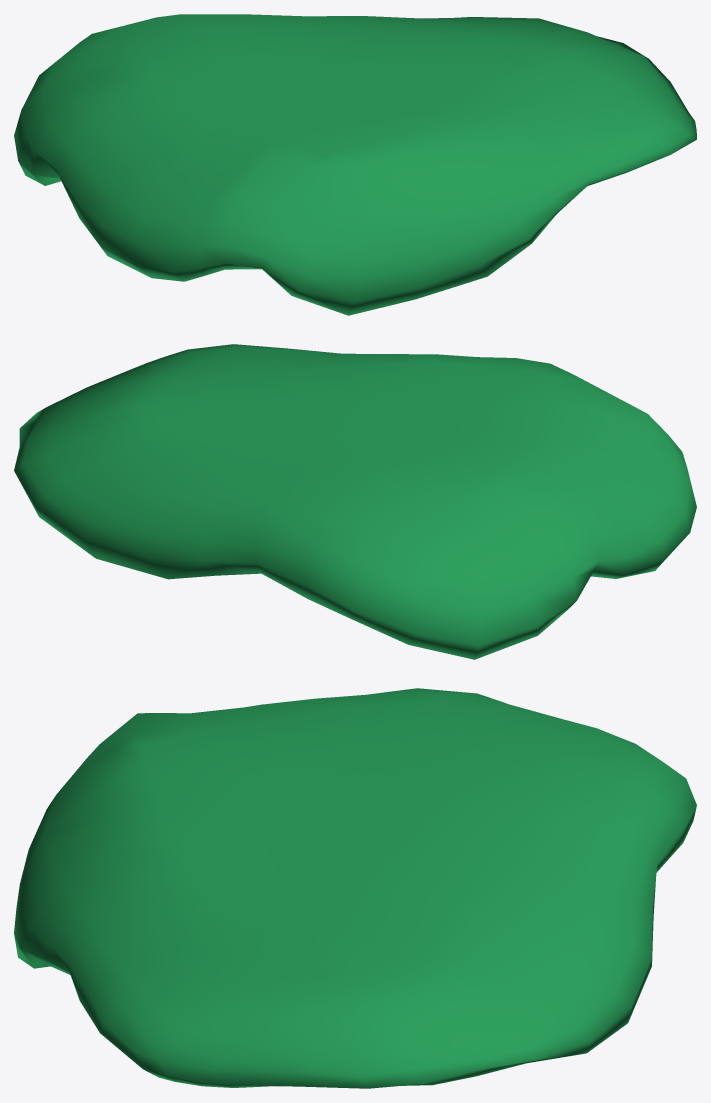
File: snow_hill_low.fbx
The picture shows the model from 3 angles, top to bottom: view 1: azimuth 30°, elevation 25°; view 2: azimuth 150°, elevation 25°; view 3: azimuth 270°, elevation 25°; orthographic projection. The views are drawn at different scales.
Parts seen in each view (by area): view 1: null1_pCube31; view 2: null1_pCube31; view 3: null1_pCube31.
Part boxes in pixels (x1,y1,x2,y2): null1_pCube31: [14, 14, 696, 315]; null1_pCube31: [14, 344, 696, 659]; null1_pCube31: [14, 688, 696, 1088].
Size of the model in its own units: 3.65 by 0.8048 by 2.98.
